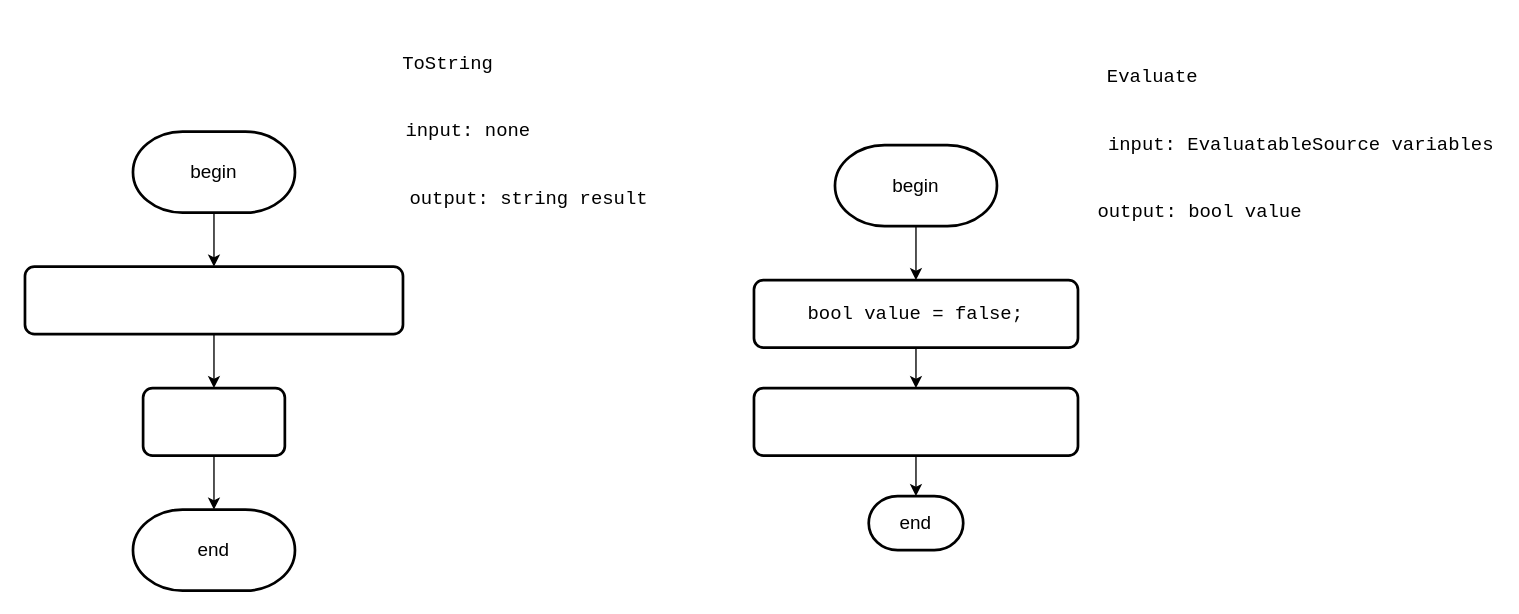
The diagram is 1519 pixels wide and 614 high, and some of its shapes have lost their labels. Here are the shapes that lost their labels. From the top down, the centre of each, then its label:
(213,300): string result = "0" ;
(213,421): return result
(915,421): return value;
